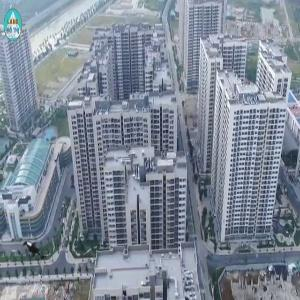drone: (16, 228, 59, 271)
